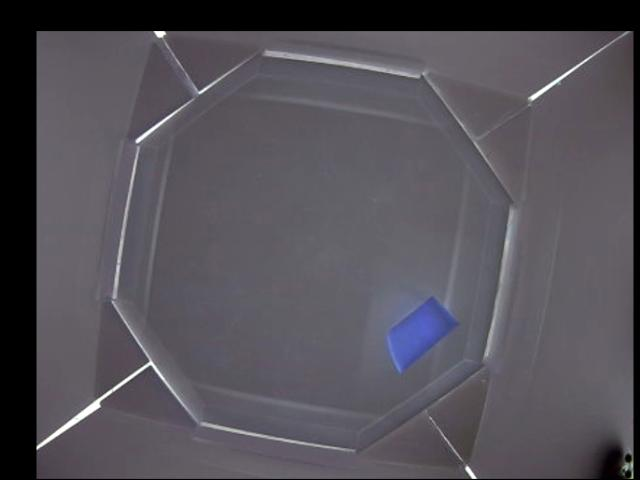Potato: (387, 294, 460, 372)
